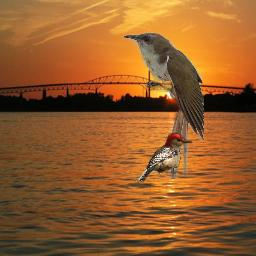Cuckoo: (123, 31, 204, 179)
Woodpecker: (135, 132, 194, 183)
